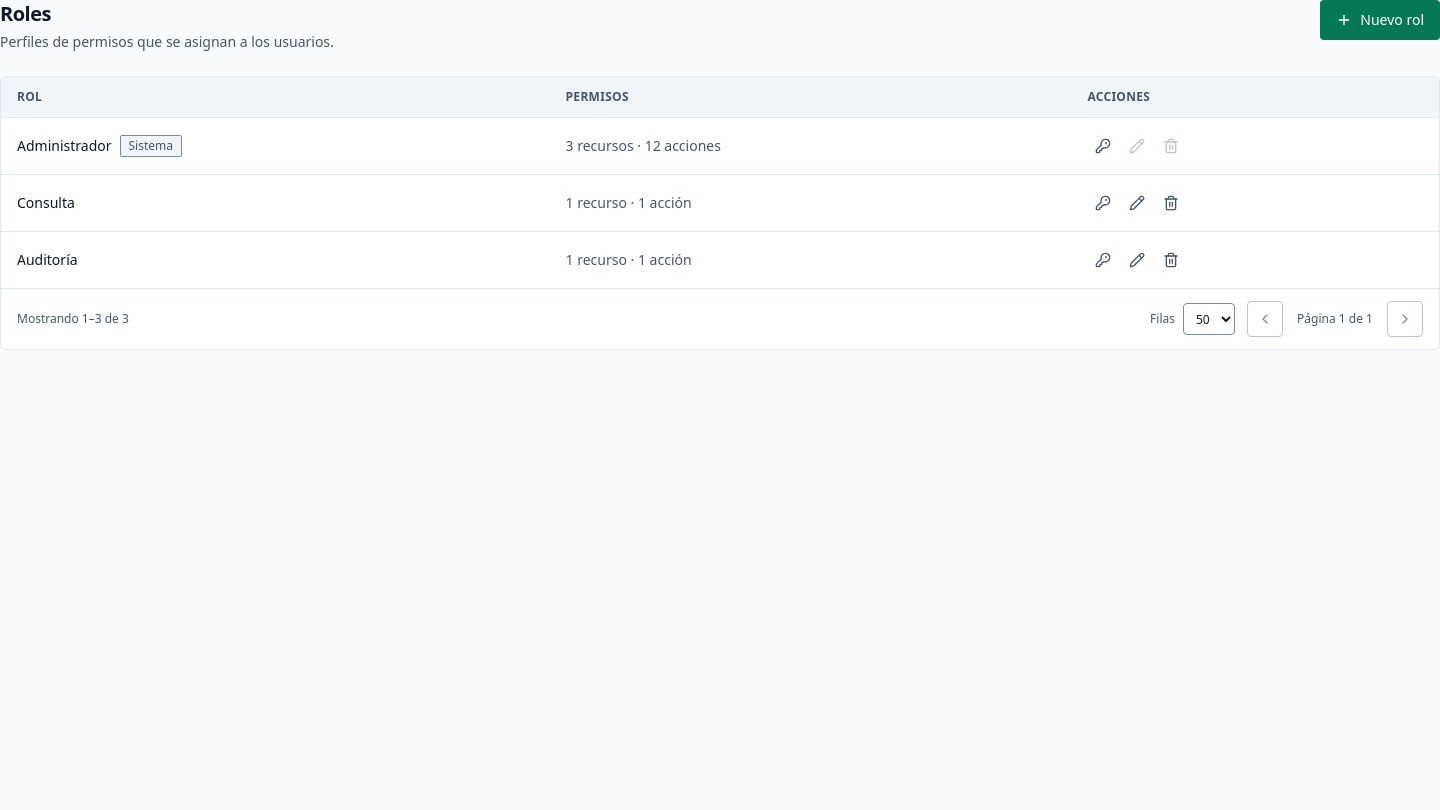
Test: RolesPage › no permite editar los permisos de un rol del sistema
Expected: the cell "Administrador Sistema" is shown, [1,118,550,174]
Click the button named "Ver permisos de Administrador": (1103, 146) [1087,130,1119,162]
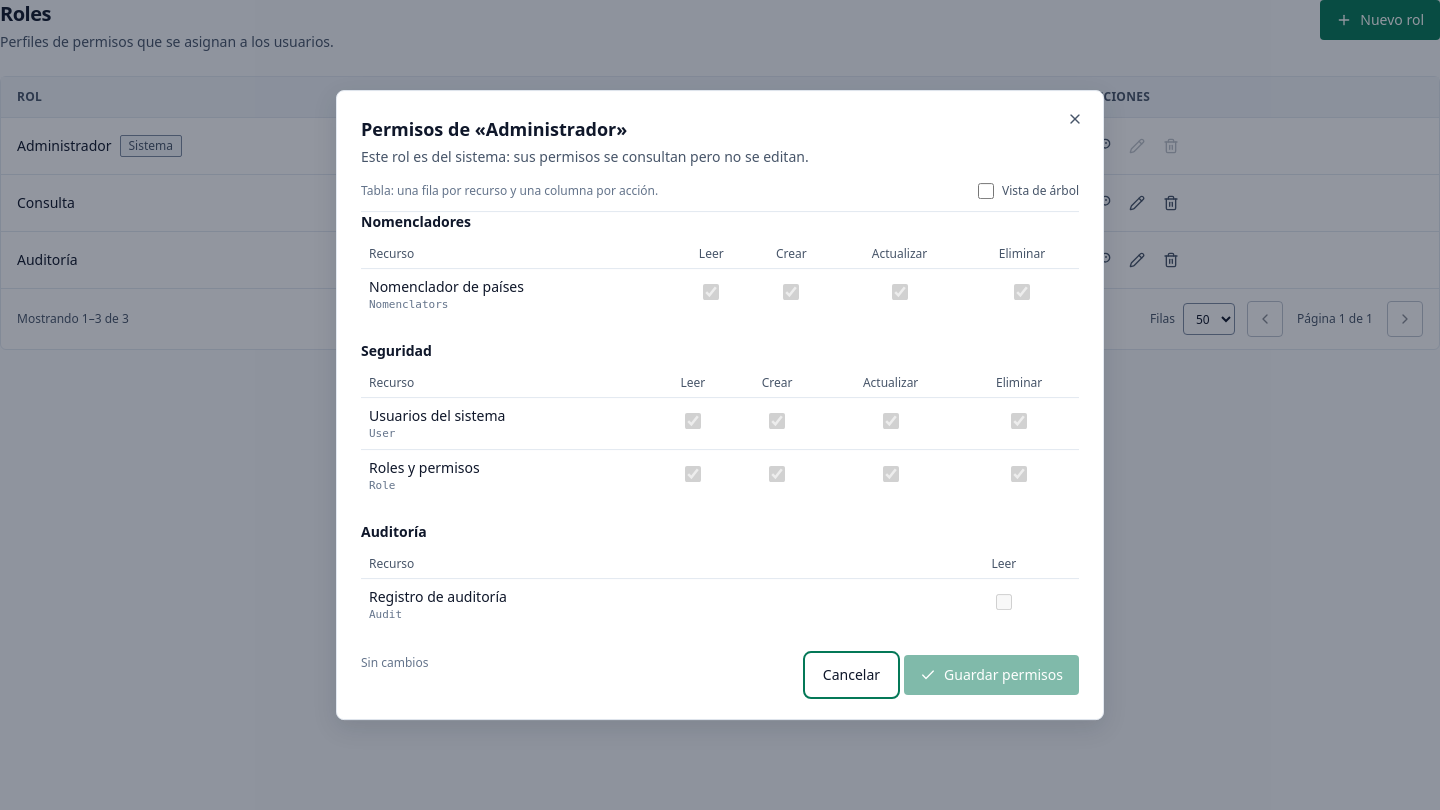
Expected: the text "Este rol es del sistema: sus permisos se consultan pero no se editan." is shown, [361,147,809,166]
Expected: the checkbox named "Leer en Nomenclador de países" is disabled, [703,284,719,300]
Expected: the button "Guardar permisos" is disabled, [904,655,1079,695]
